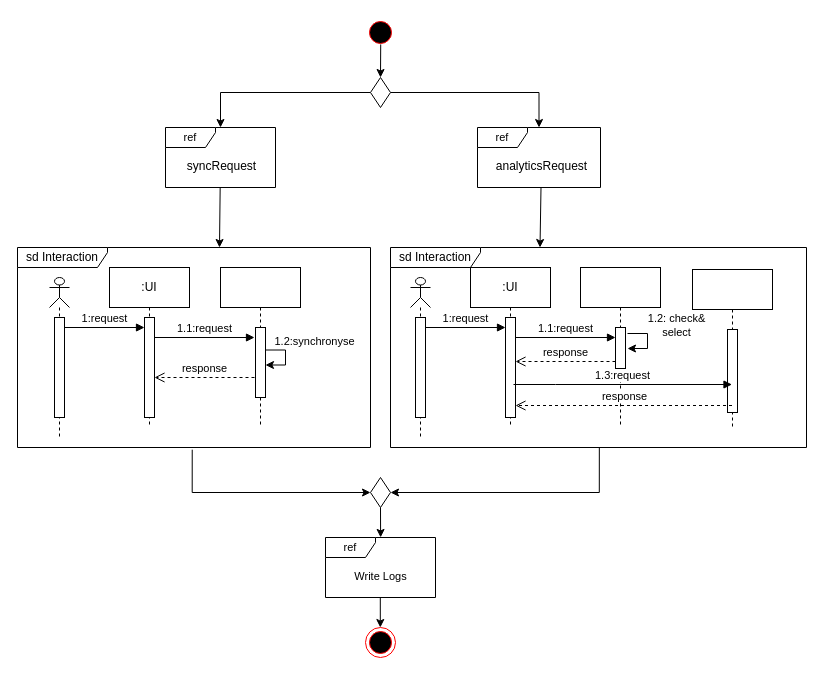
The diagram is 824 pixels wide and 675 high, and some of its shapes have lost their labels. Each missing label, with the box of its shape:
:Analytics Service: (692, 268, 772, 430)
:Database: (580, 266, 660, 428)
:SyncSystem: (220, 266, 300, 428)
